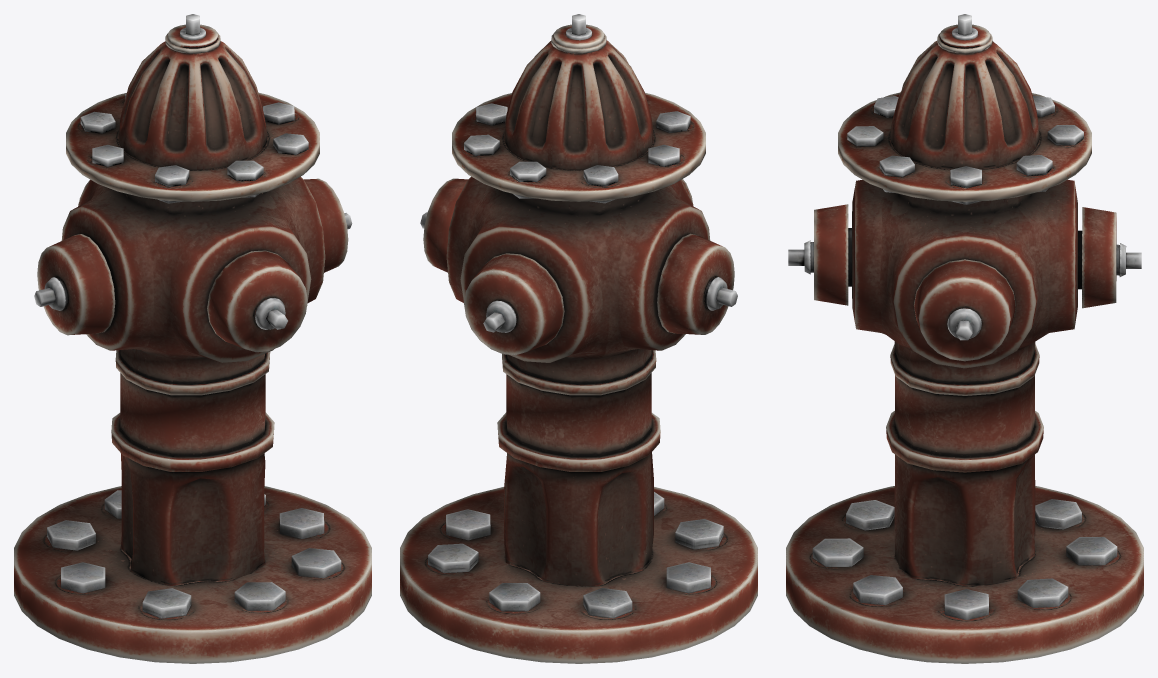
Rendered from FireHydrant.fbx.
3 views of the same model, side by side, from view 1: azimuth 30°, elevation 25°; view 2: azimuth 150°, elevation 25°; view 3: azimuth 270°, elevation 25° (orthographic).
Parts seen in each view (by area): view 1: Hydrant_LOD0; view 2: Hydrant_LOD0; view 3: Hydrant_LOD0.
Boxes of the visible parts, left/top/right/bottom form: Hydrant_LOD0: left=14, top=14, right=371, bottom=663; Hydrant_LOD0: left=400, top=14, right=757, bottom=663; Hydrant_LOD0: left=786, top=14, right=1143, bottom=663.
Size of what is drawn, in the model's own units: 426 by 745 by 424.
